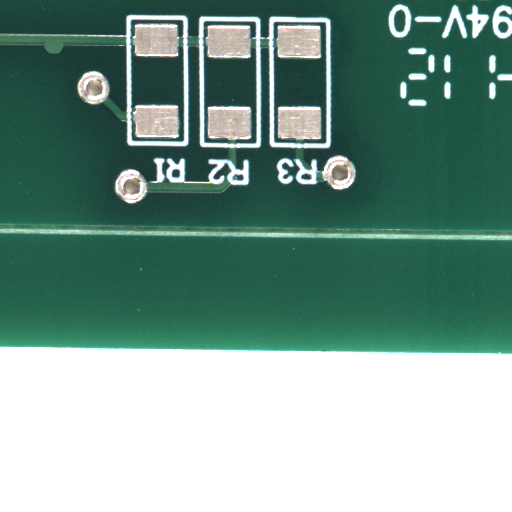Spur: (53, 48, 76, 60)
